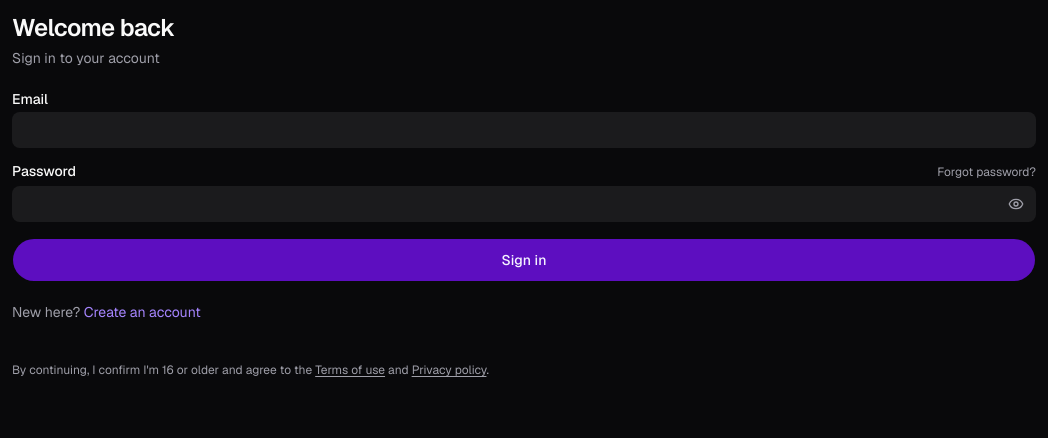
AuthForm › asks for the email and password on an empty sign-in, focusing the email
Click the button "Sign in".
click(524, 260)  # box top-left (12, 238), bottom-right (1036, 282)
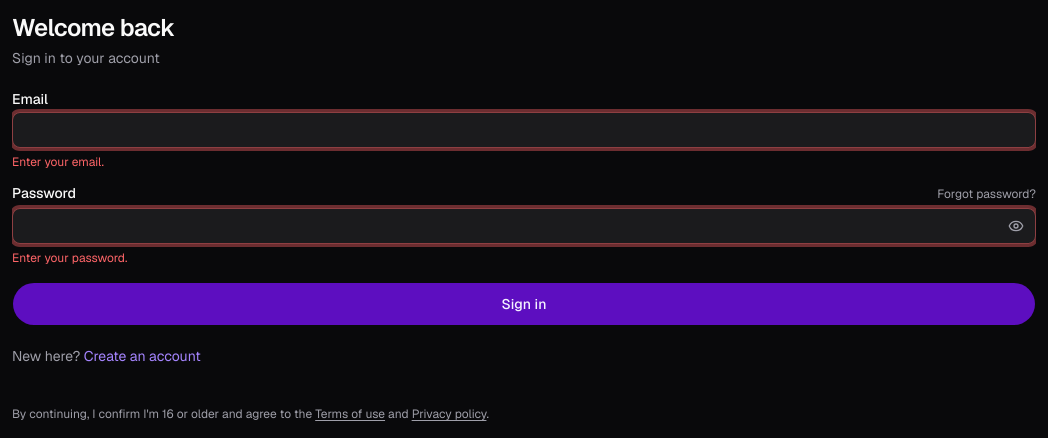
expect the text "Enter your email." is shown: met, box top-left (12, 154), bottom-right (104, 170)
expect the text "Enter your password." is shown: met, box top-left (12, 250), bottom-right (127, 266)
